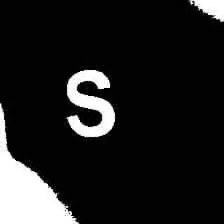LTR_S: (56, 63, 126, 143)
